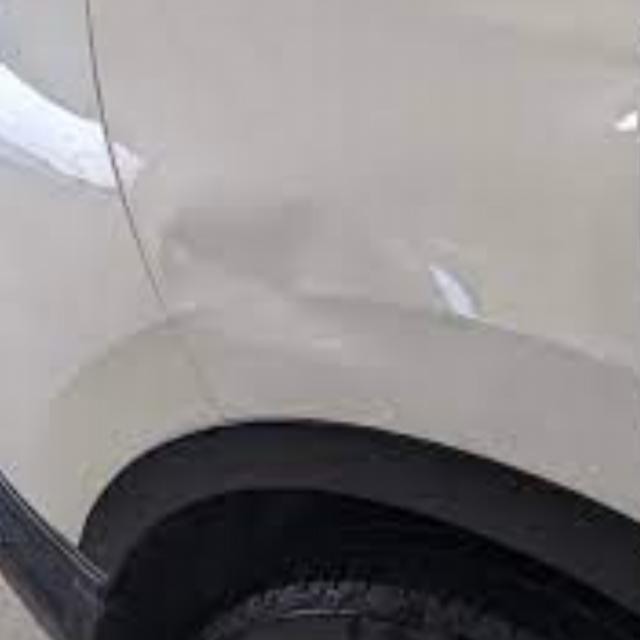dents: (134, 185, 438, 389)
